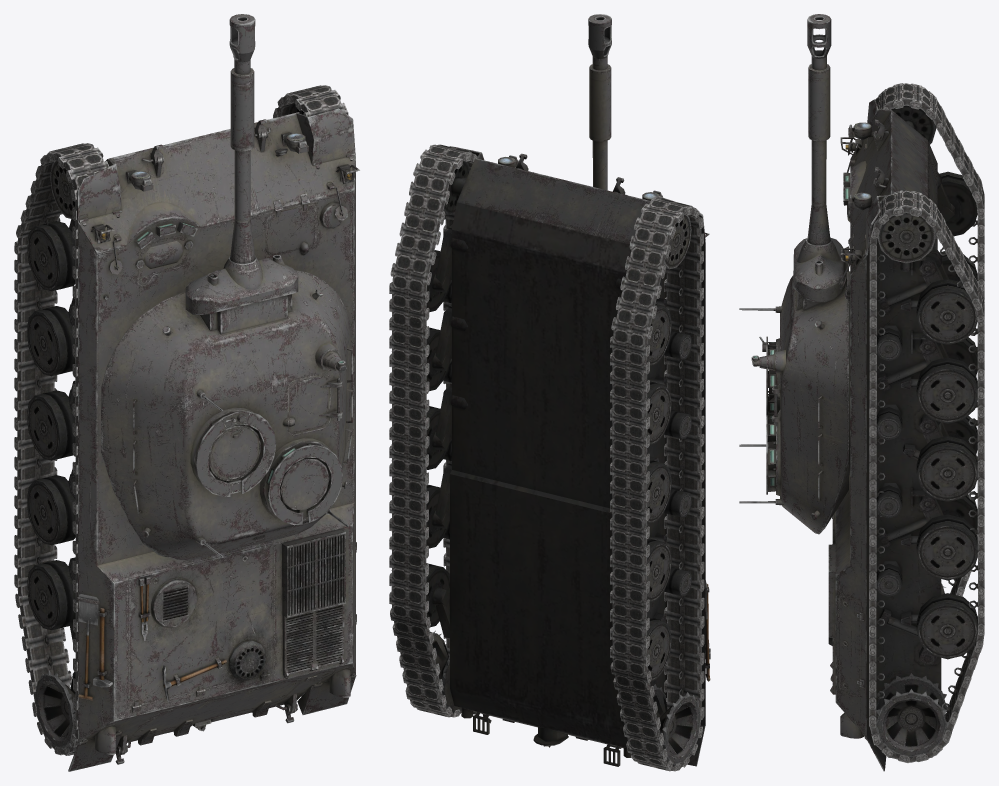
The picture shows the model from 3 angles, left to right: view 1: azimuth 30°, elevation 25°; view 2: azimuth 150°, elevation 25°; view 3: azimuth 270°, elevation 25°; orthographic projection. The views are drawn at different scales.
Parts seen in each view (by area): view 1: hull, turret_01, hull_nc_skin, chassis_track_L, hull_nc_skin2, gun_01, gun_01_mask, hull_nc_hide_elements, chassis_wheel_L_02, chassis_wheel_L_08, chassis_wheel_L_10, chassis_wheel_L_06 (+6 smaller); view 2: hull, chassis_track_L, chassis_track_R, hull_nc_skin2, gun_01, chassis_wheel_L_11, chassis_wheel_L_08, hull_nc_skin, chassis_wheel_L_06, chassis_wheel_L_10, chassis_wheel_L_04, chassis_wheel_L_02 (+10 smaller); view 3: hull, turret_01, chassis_track_R, hull_nc_skin2, chassis_wheel_R_11, gun_01, chassis_track_L, chassis_wheel_R_06, chassis_wheel_R_04, chassis_wheel_R_08, chassis_wheel_R_10, chassis_wheel_R_02 (+14 smaller).
Boxes of the visible parts, x1,y1,x2,y2 form: hull: (78, 112, 355, 742); turret_01: (101, 270, 351, 559); hull_nc_skin: (78, 119, 356, 764); chassis_track_L: (14, 143, 109, 755); hull_nc_skin2: (68, 108, 356, 771); gun_01: (229, 14, 255, 263); gun_01_mask: (185, 256, 298, 314); hull_nc_hide_elements: (77, 153, 359, 697); chassis_wheel_L_02: (27, 221, 75, 291); chassis_wheel_L_08: (27, 475, 75, 545); chassis_wheel_L_10: (27, 560, 75, 630); chassis_wheel_L_06: (27, 390, 75, 460); hull: (450, 158, 705, 748); chassis_track_L: (610, 198, 704, 771); chassis_track_R: (389, 144, 477, 717); hull_nc_skin2: (432, 146, 705, 766); gun_01: (588, 14, 611, 190); chassis_wheel_L_11: (653, 684, 700, 766); chassis_wheel_L_08: (647, 538, 671, 602); hull_nc_skin: (482, 153, 710, 748); chassis_wheel_L_06: (647, 460, 671, 523); chassis_wheel_L_10: (647, 617, 671, 680); chassis_wheel_L_04: (647, 381, 671, 444); chassis_wheel_L_02: (647, 304, 671, 365); hull: (835, 110, 941, 737); turret_01: (751, 246, 850, 534); chassis_track_R: (869, 190, 984, 762); hull_nc_skin2: (844, 99, 955, 771); chassis_wheel_R_11: (876, 673, 949, 758); gun_01: (807, 14, 831, 245); chassis_track_L: (875, 83, 984, 596); chassis_wheel_R_06: (916, 436, 977, 501); chassis_wheel_R_04: (916, 357, 977, 423); chassis_wheel_R_08: (916, 514, 977, 580); chassis_wheel_R_10: (916, 593, 977, 659); chassis_wheel_R_02: (916, 279, 977, 344).
Bounding box in the file's own units: 3.03 × 7.74 × 2.47.
2 materials, 2 textured.
